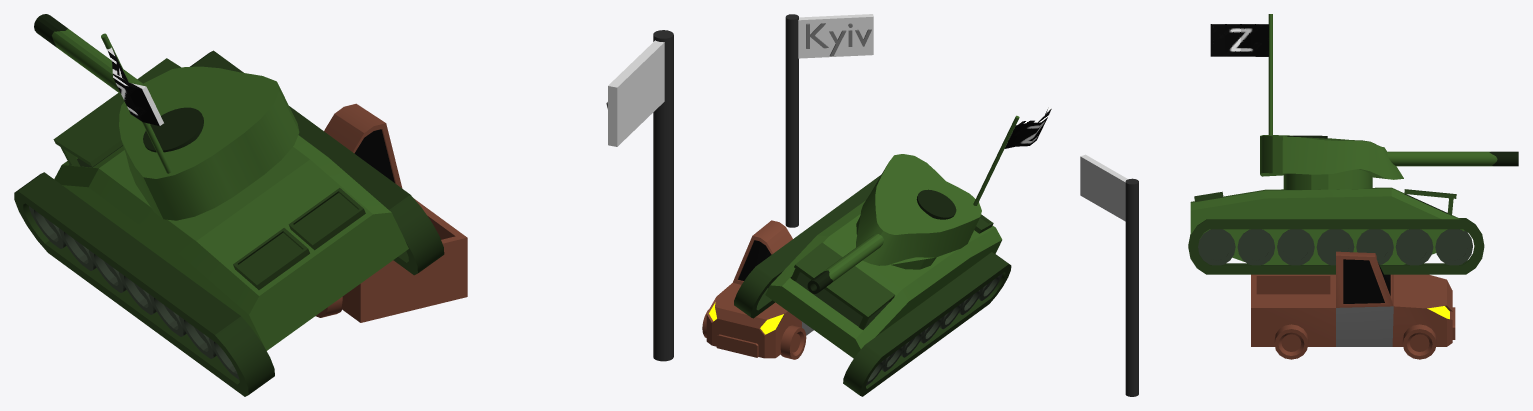
Rendered from kyiv 1.fbx.
The picture shows the model from 3 angles, left to right: view 1: azimuth 30°, elevation 25°; view 2: azimuth 150°, elevation 25°; view 3: azimuth 270°, elevation 25°; orthographic projection. The views are drawn at different scales.
Visible parts, largest first — view 1: Circle; view 2: Circle; view 3: Circle.
Part boxes in pixels (box(x1,y1,x2,y2)): Circle: box(14, 14, 673, 396); Circle: box(702, 14, 1051, 396); Circle: box(1080, 14, 1518, 396).
Bounding box in the file's own units: 75.21 × 53.7 × 90.92.
Materials: 15 (1 with a texture image).
